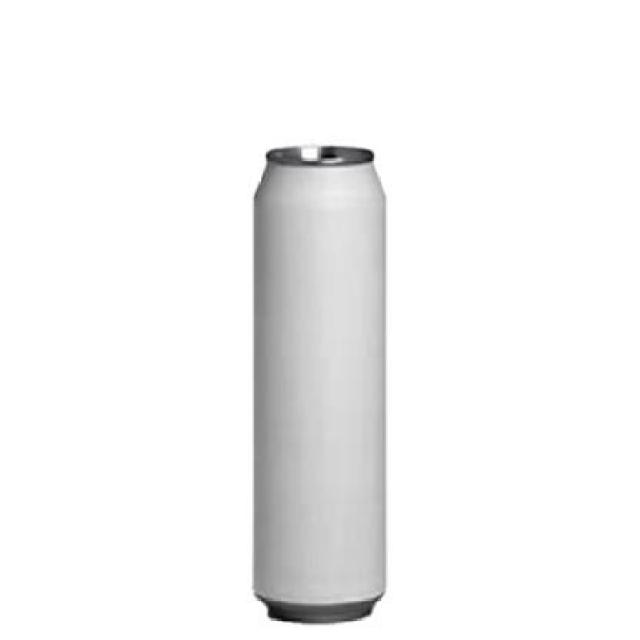Metal: (252, 141, 389, 624)
